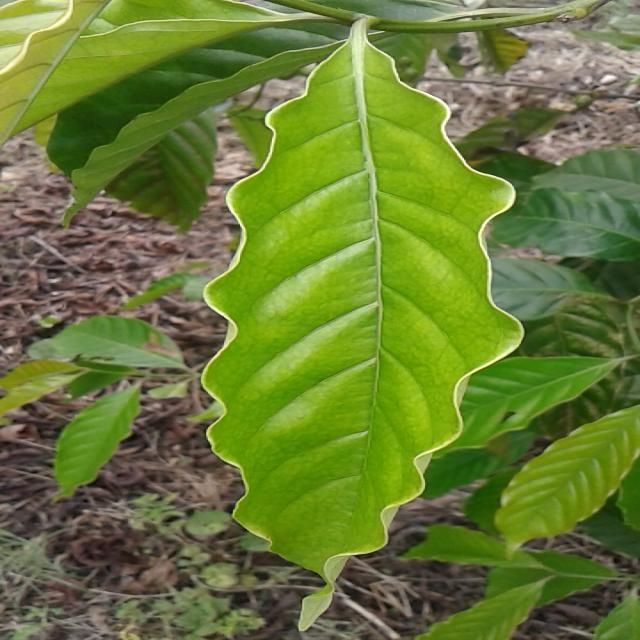Sanas: (199, 20, 525, 587)
